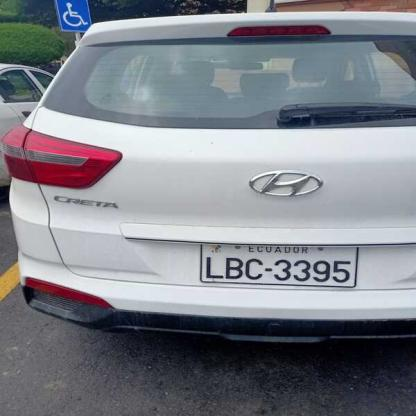Placa: (201, 238, 361, 289)
